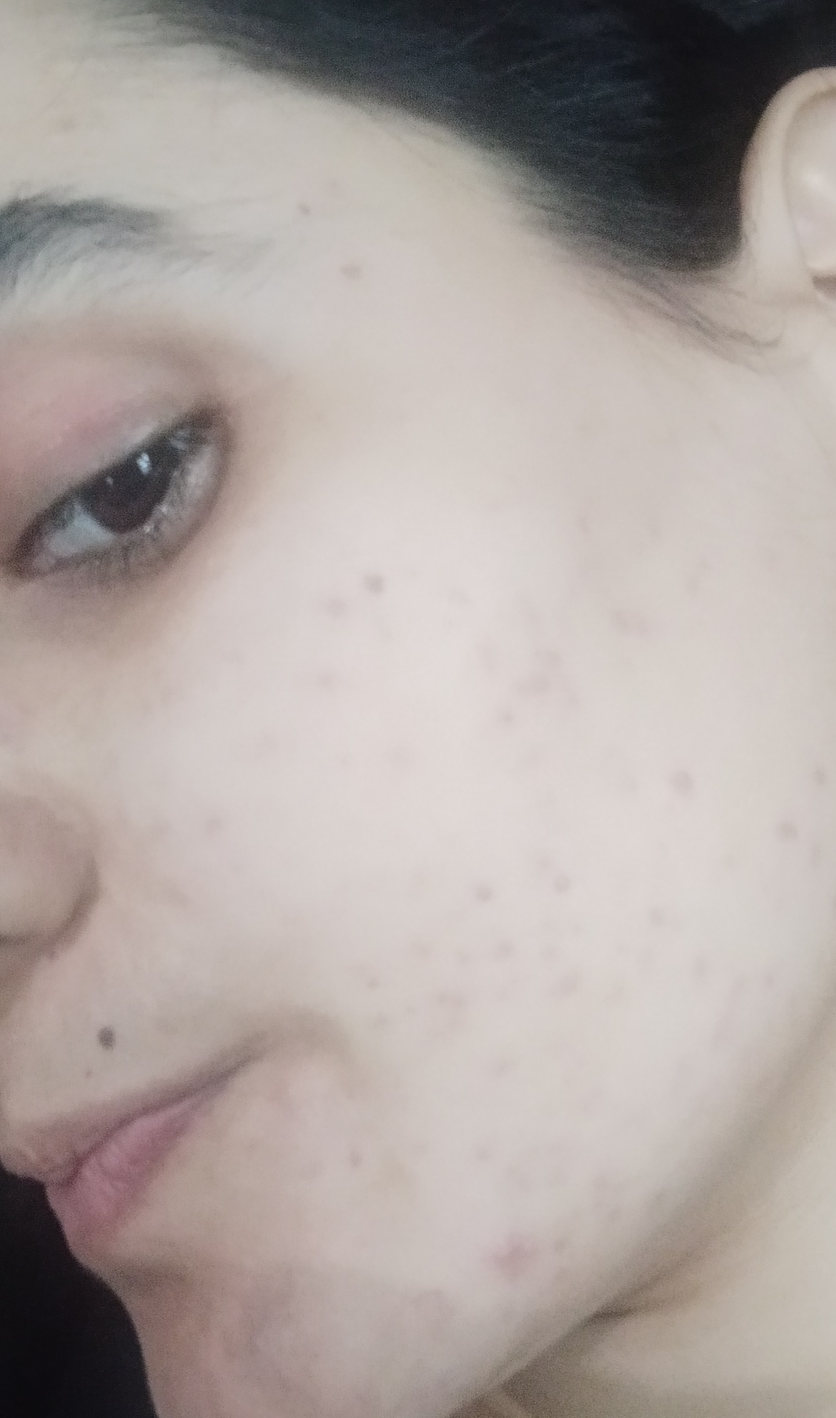papule: (471, 1224, 557, 1287)
